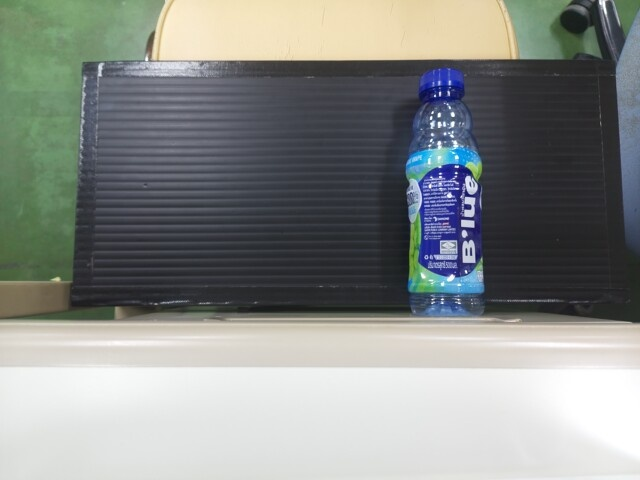plastic_bottle: (404, 63, 482, 307)
